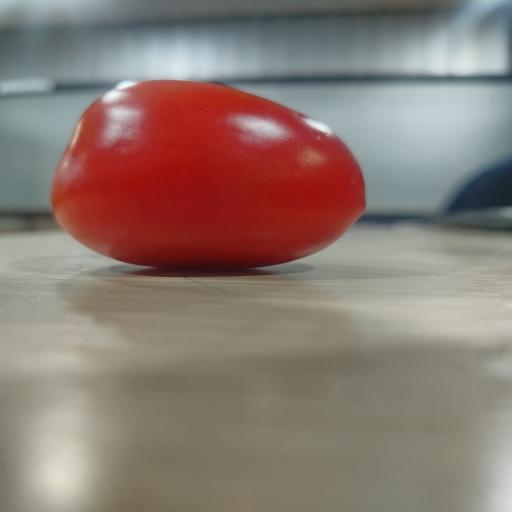ripe: (52, 80, 365, 268)
